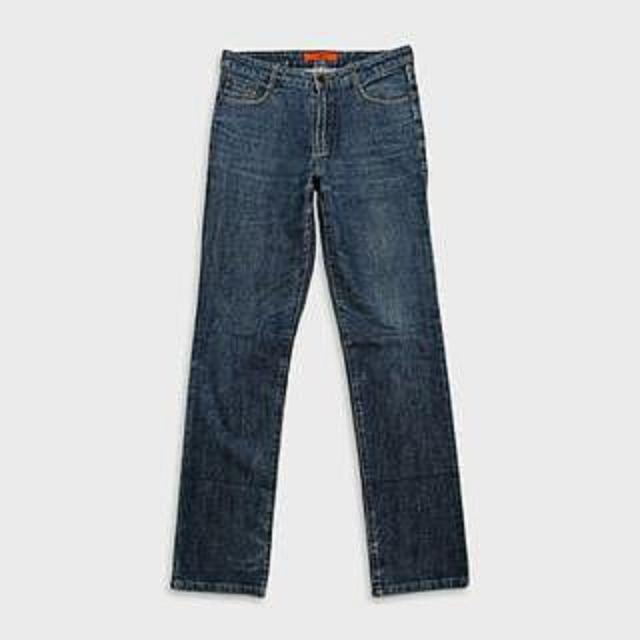TROUSER: (160, 33, 506, 606)
